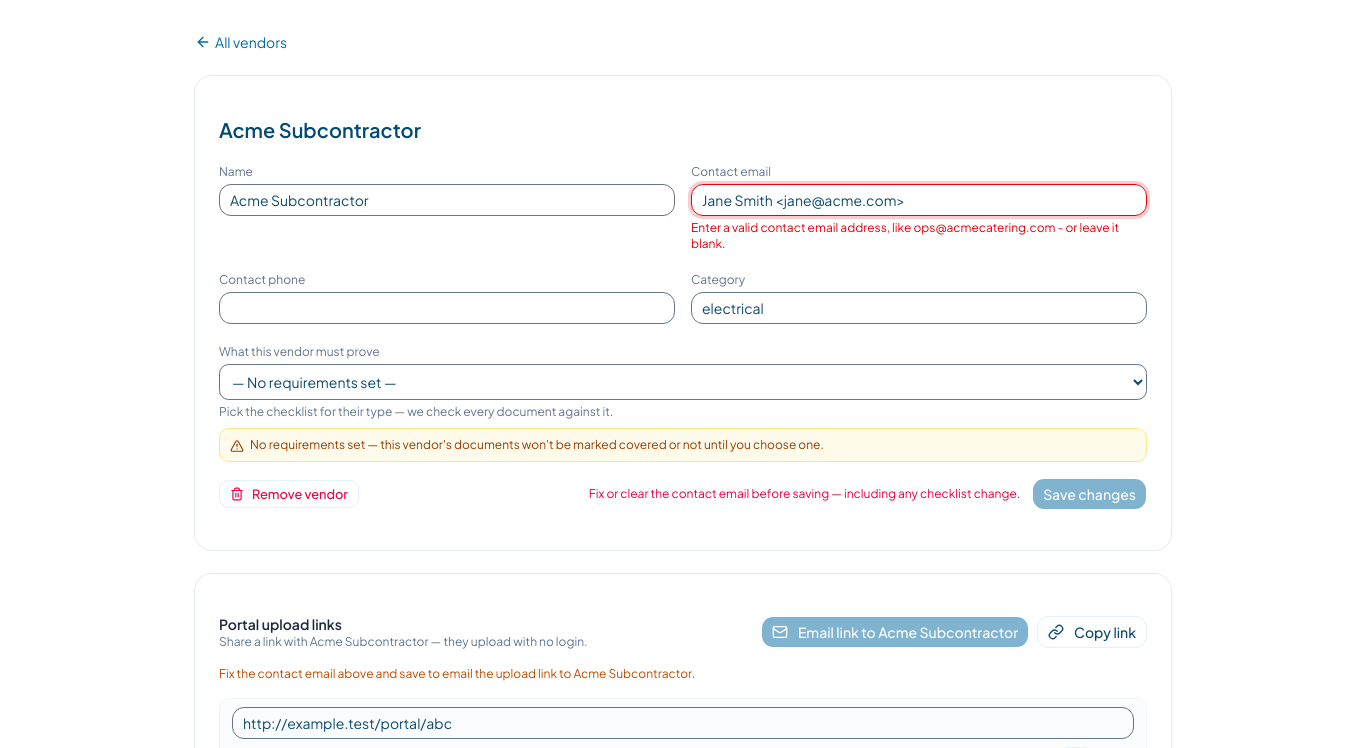
Scenario: VendorDetailPage — a vendor whose STORED email is already malformed (#369) › does not let an unsaved checklist pick read as applied while Save is blocked
This screenshot has width=1366, height=748.
Select "Caterer" in the dropdown labelled "What this vendor must prove": (683, 382) x1=219 y1=364 x2=1147 y2=400
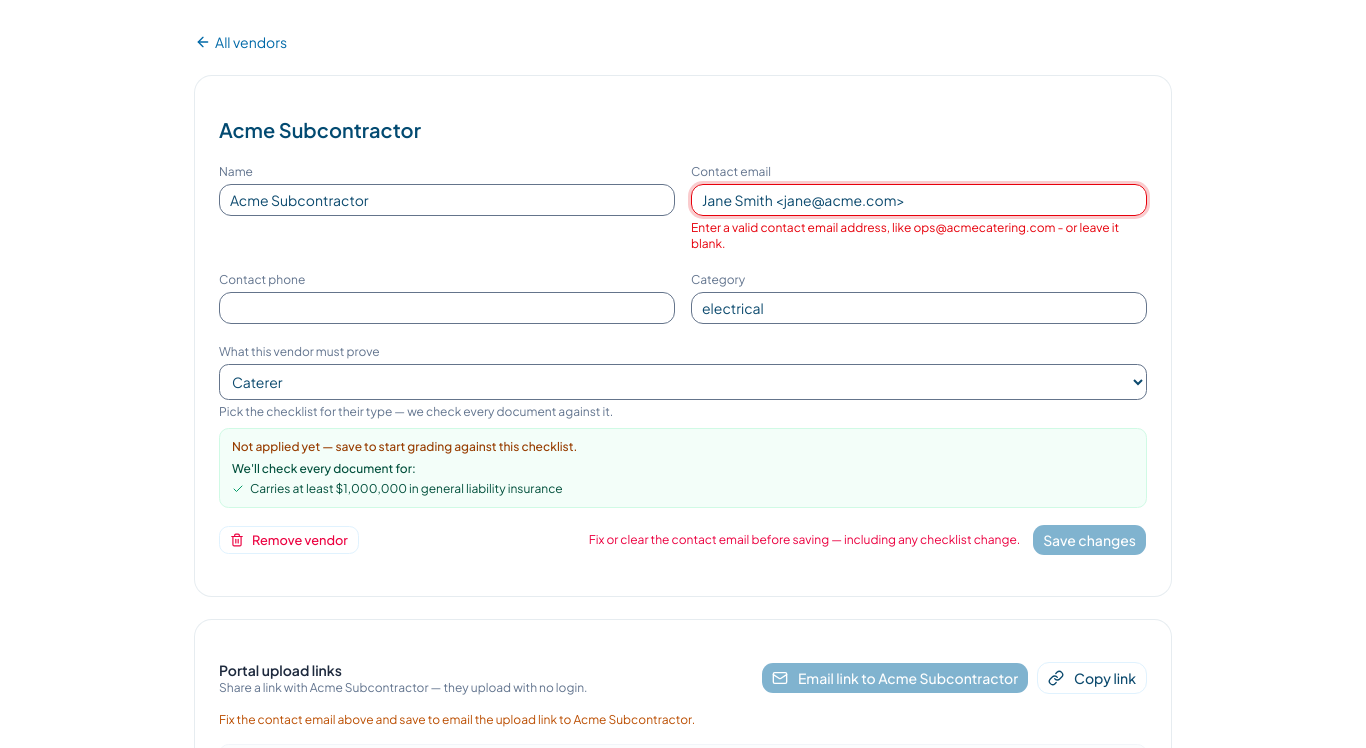
Check: the button "Save changes" is disabled, box x1=1032 y1=524 x2=1147 y2=556
Check: the text "Not applied yet" is shown, box x1=232 y1=439 x2=577 y2=454
